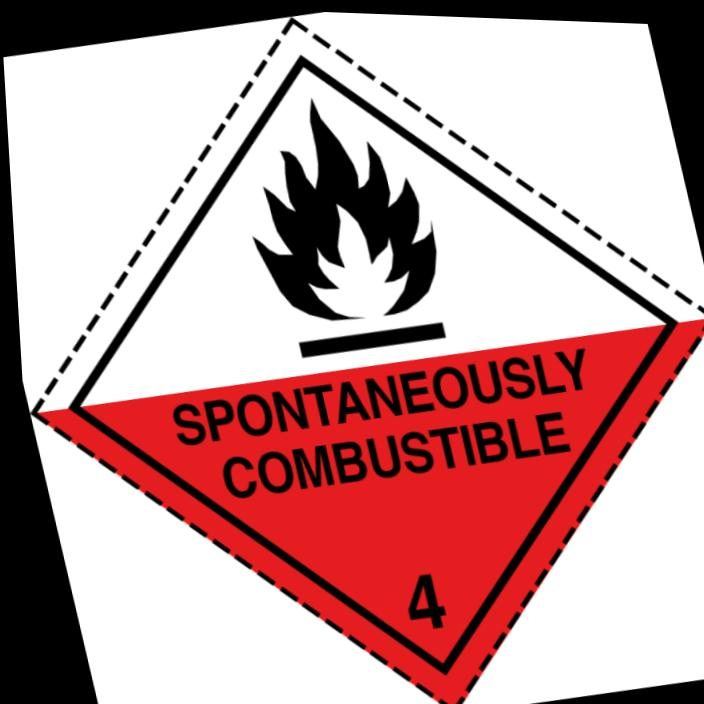charging station: (33, 20, 704, 704)
